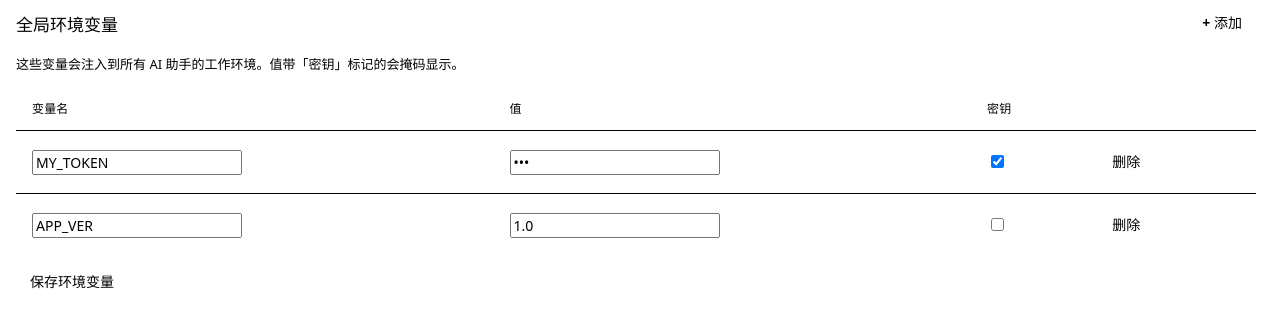
Test: GlobalEnvSection › 保存后提示「已保存」
Click the button "保存环境变量".
click(72, 282)  # box [16,264,128,300]
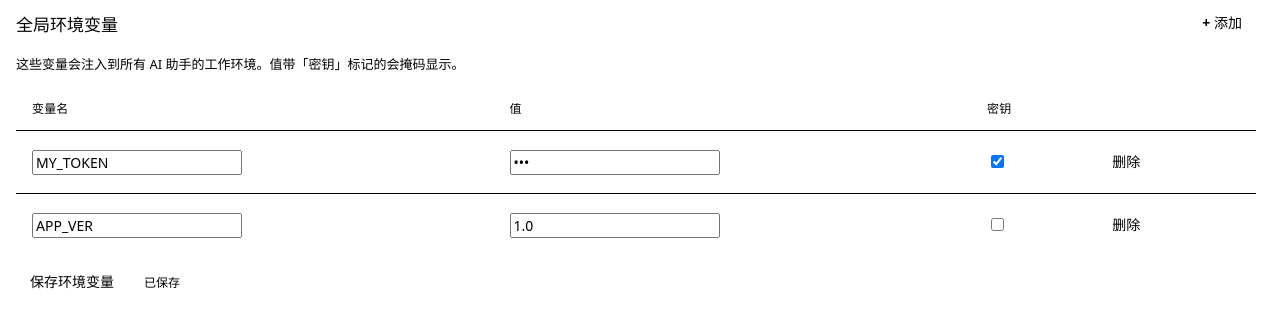
Result: the text "已保存" is shown at [144,274,180,291]
